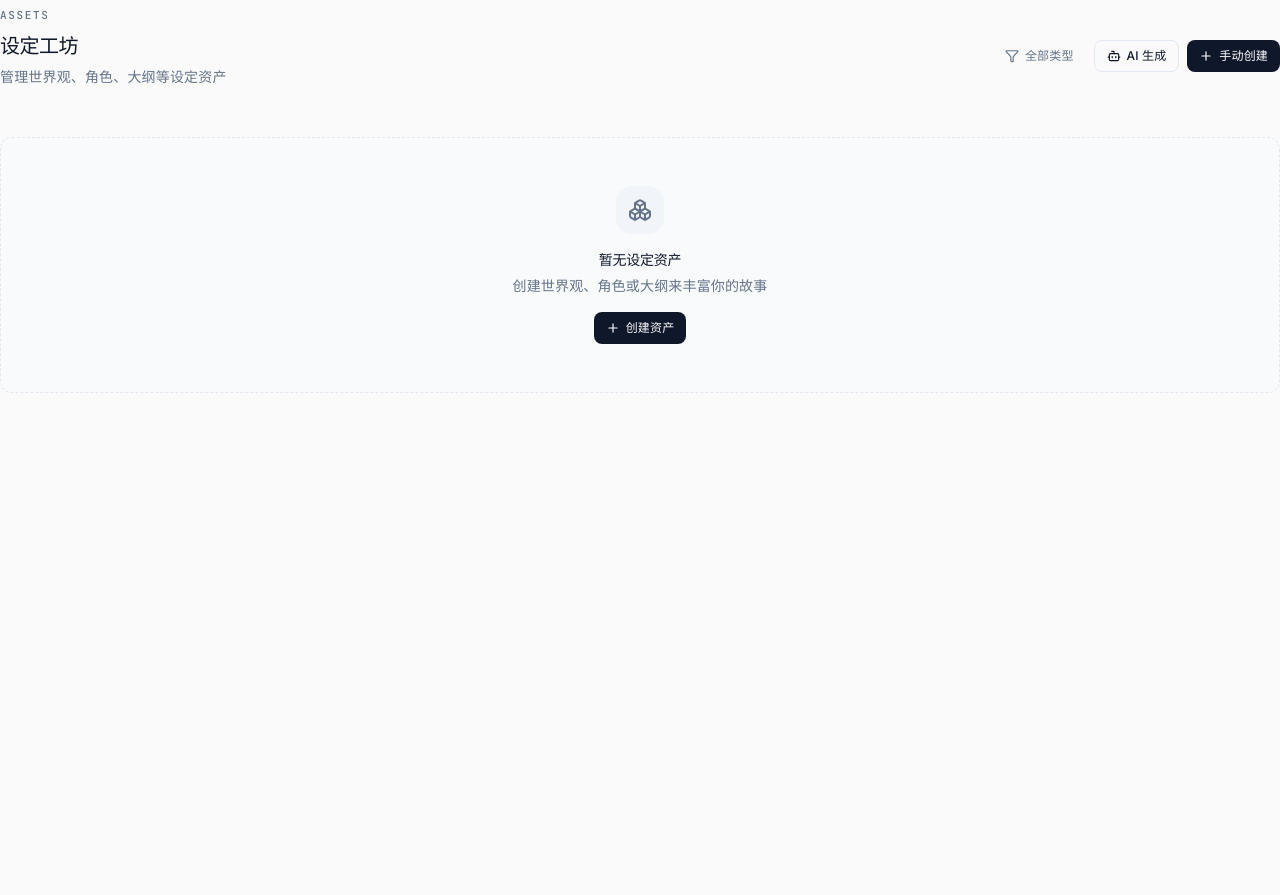
Scenario: AssetsPanel › shows structured preview after generation completes without auto-opening the editor
Expected: the heading "暂无设定资产" is shown, left=599, top=250, right=681, bottom=270
Click the button "AI 生成".
click(1136, 56)  # box left=1094, top=40, right=1179, bottom=72
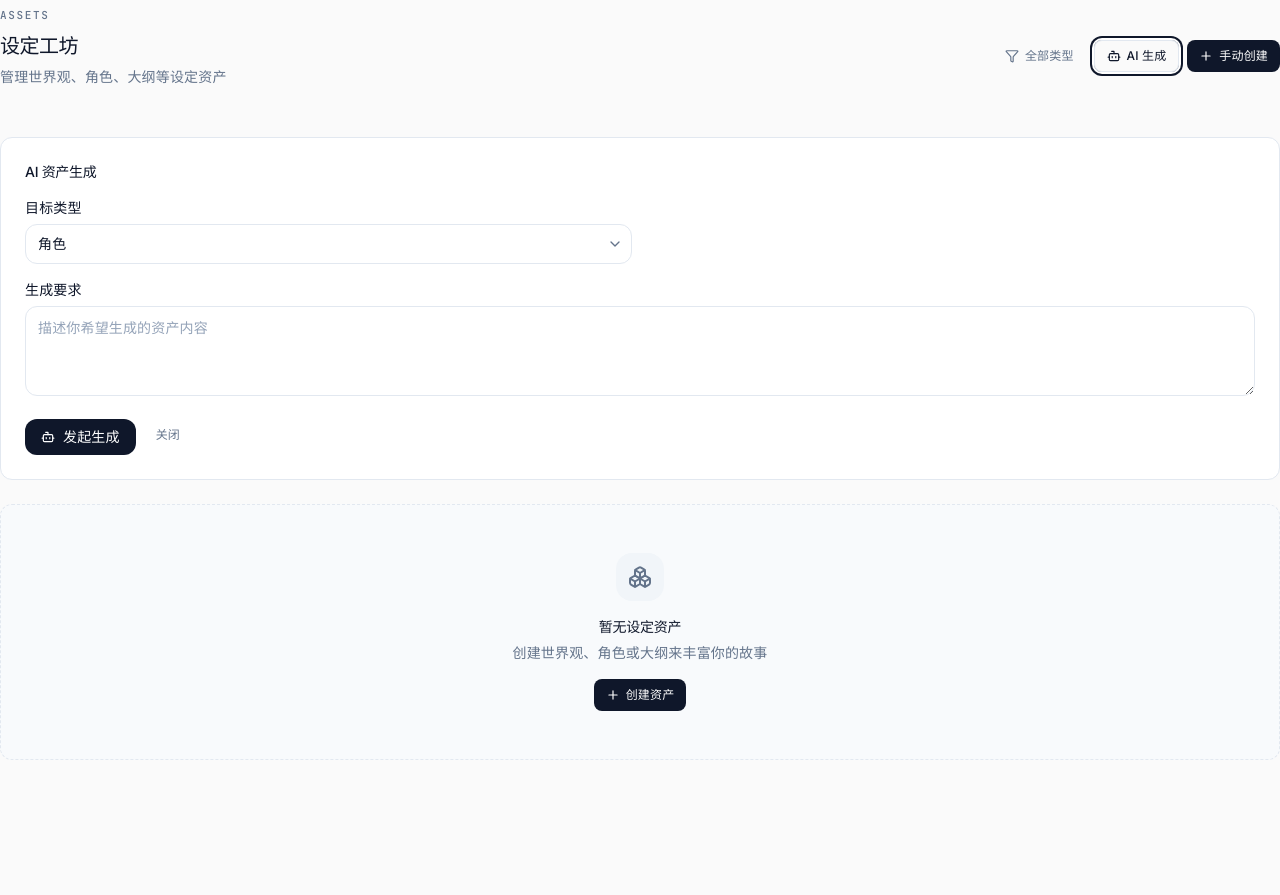
Type "生成一个冷静的主角" into the text box with placeholder "描述你希望生成的资产内容".
click(640, 351); type("生成一个冷静的主角")  # box left=25, top=306, right=1255, bottom=396
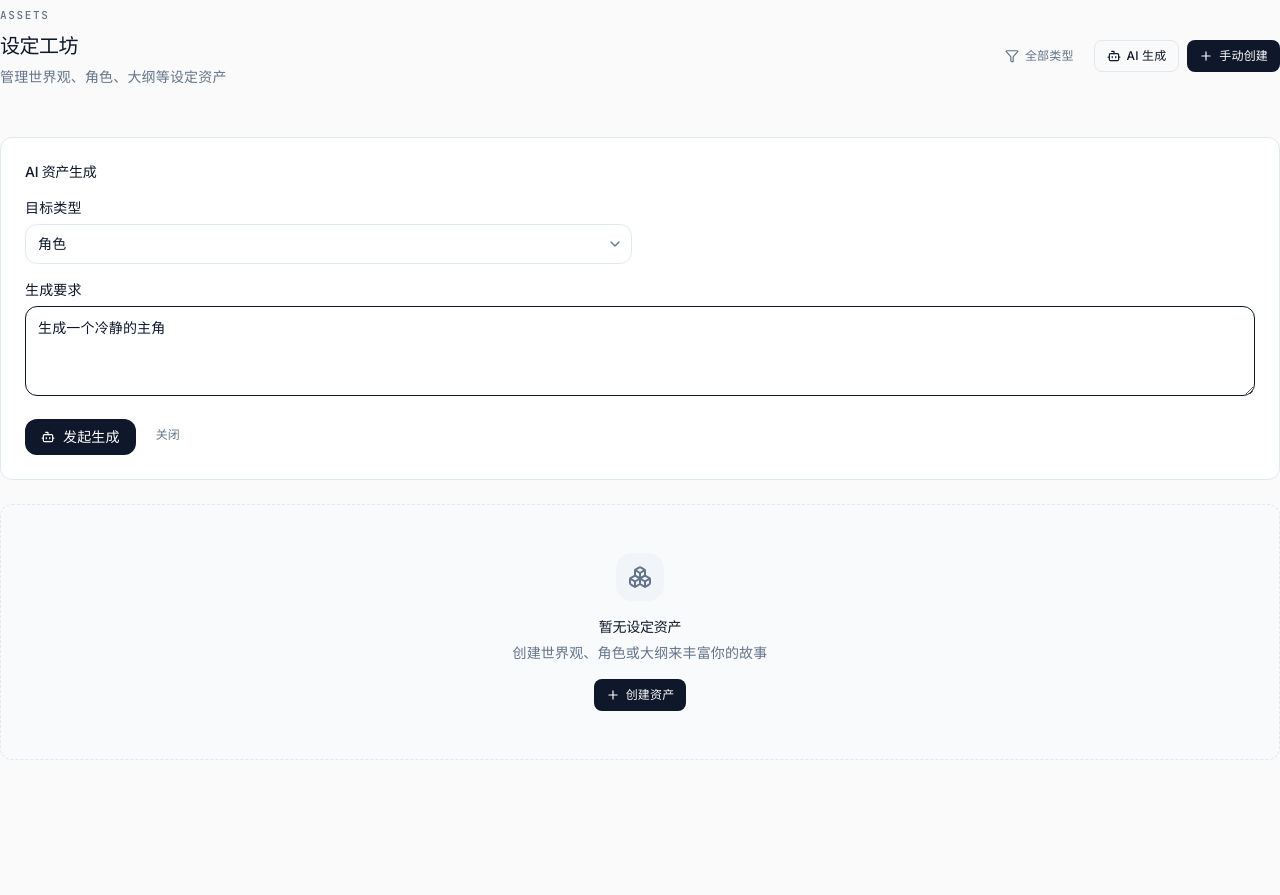
Click the button "发起生成".
click(80, 437)  # box left=25, top=419, right=136, bottom=455
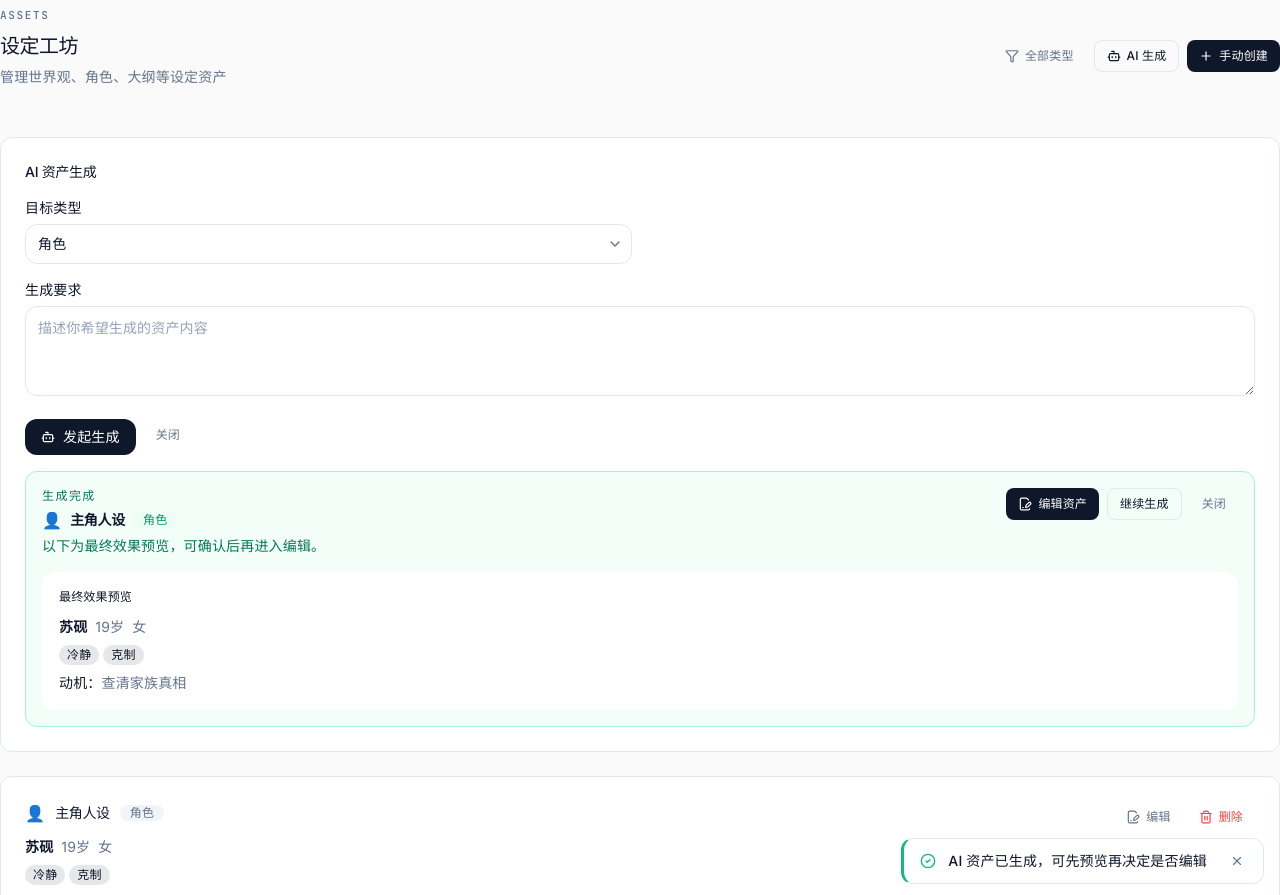
Expected: the text "最终效果预览" is shown, left=59, top=589, right=132, bottom=604
Expected: the text "苏砚" below "以下为最终效果预览，可确认后再进入编辑。" is shown, left=59, top=618, right=87, bottom=635
Expected: the text "冷静" below "以下为最终效果预览，可确认后再进入编辑。" is shown, left=67, top=647, right=91, bottom=662
